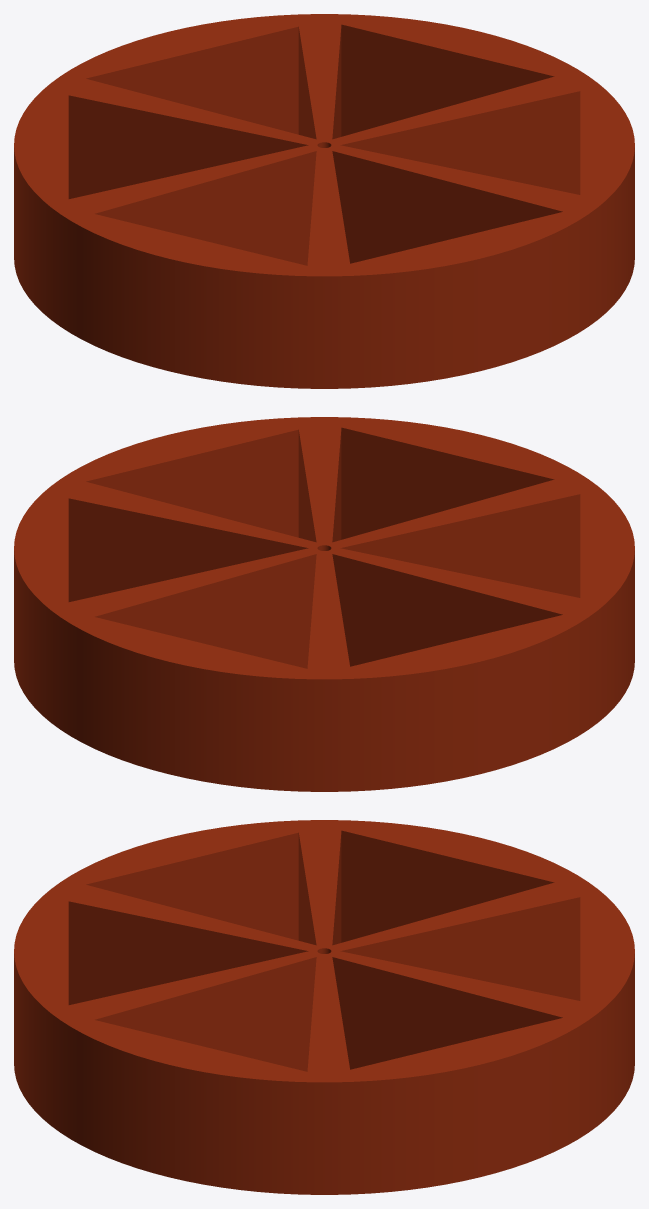
File: wheel_red.obj
The picture shows the model from 3 angles, top to bottom: view 1: azimuth 30°, elevation 25°; view 2: azimuth 150°, elevation 25°; view 3: azimuth 270°, elevation 25°; orthographic projection.
Parts seen in each view (by area): view 1: mesh0, mesh1, mesh7, mesh15, mesh18, mesh4, mesh14, mesh11, mesh10, mesh12; view 2: mesh0, mesh1, mesh13, mesh3, mesh6, mesh10, mesh20, mesh17, mesh16, mesh18; view 3: mesh0, mesh1, mesh9, mesh19, mesh12, mesh16, mesh8, mesh5, mesh4, mesh6.
Boxes of the visible parts, left/top/right/bottom form: mesh0: left=14, top=148, right=634, bottom=388; mesh1: left=14, top=14, right=634, bottom=276; mesh7: left=68, top=95, right=308, bottom=198; mesh15: left=340, top=91, right=580, bottom=194; mesh18: left=332, top=151, right=562, bottom=263; mesh4: left=95, top=151, right=316, bottom=265; mesh14: left=341, top=24, right=554, bottom=136; mesh11: left=86, top=26, right=298, bottom=134; mesh10: left=298, top=27, right=316, bottom=139; mesh12: left=332, top=29, right=341, bottom=139; mesh0: left=14, top=551, right=634, bottom=791; mesh1: left=14, top=417, right=634, bottom=679; mesh13: left=68, top=498, right=308, bottom=601; mesh3: left=340, top=494, right=580, bottom=597; mesh6: left=332, top=554, right=562, bottom=666; mesh10: left=95, top=554, right=316, bottom=668; mesh20: left=341, top=427, right=554, bottom=539; mesh17: left=86, top=429, right=298, bottom=537; mesh16: left=298, top=430, right=316, bottom=542; mesh18: left=332, top=432, right=341, bottom=542; mesh0: left=14, top=954, right=634, bottom=1194; mesh1: left=14, top=820, right=634, bottom=1082; mesh9: left=340, top=897, right=580, bottom=1000; mesh19: left=68, top=901, right=308, bottom=1004; mesh12: left=332, top=957, right=562, bottom=1069; mesh16: left=95, top=957, right=316, bottom=1071; mesh8: left=341, top=830, right=554, bottom=942; mesh5: left=86, top=832, right=298, bottom=940; mesh4: left=298, top=833, right=316, bottom=945; mesh6: left=332, top=835, right=341, bottom=945.
Size of the model in its own units: 0.4998 by 0.1 by 0.5.
